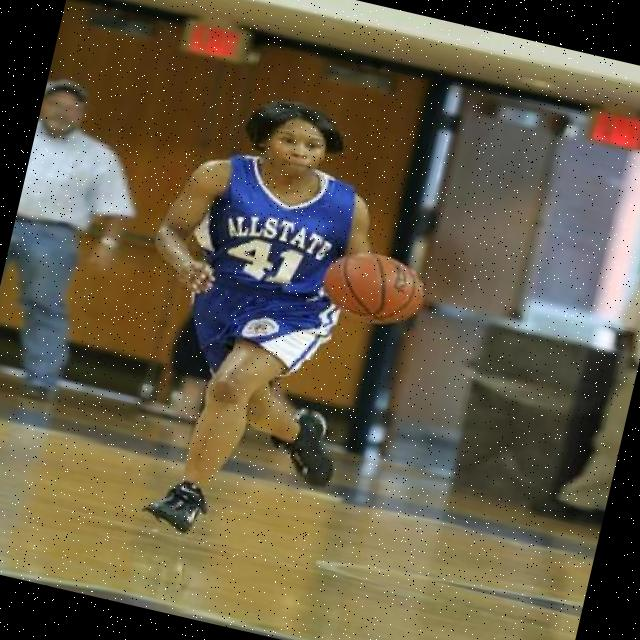ball: (318, 242, 432, 332)
